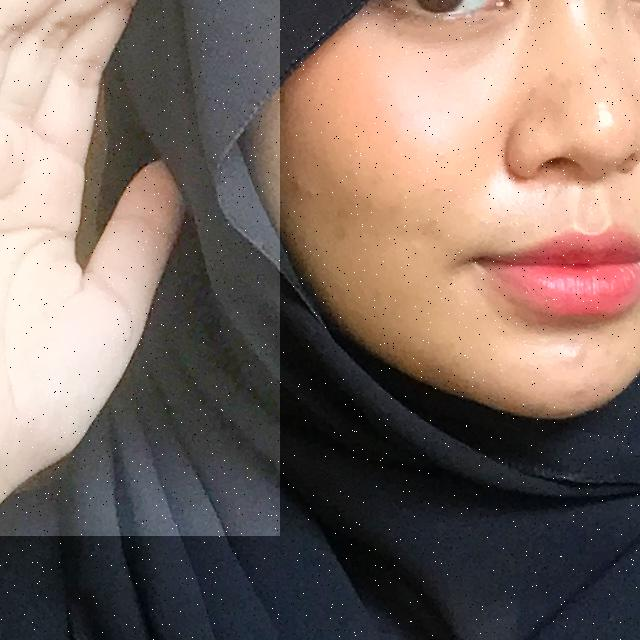mendengar: (0, 0, 280, 536)
